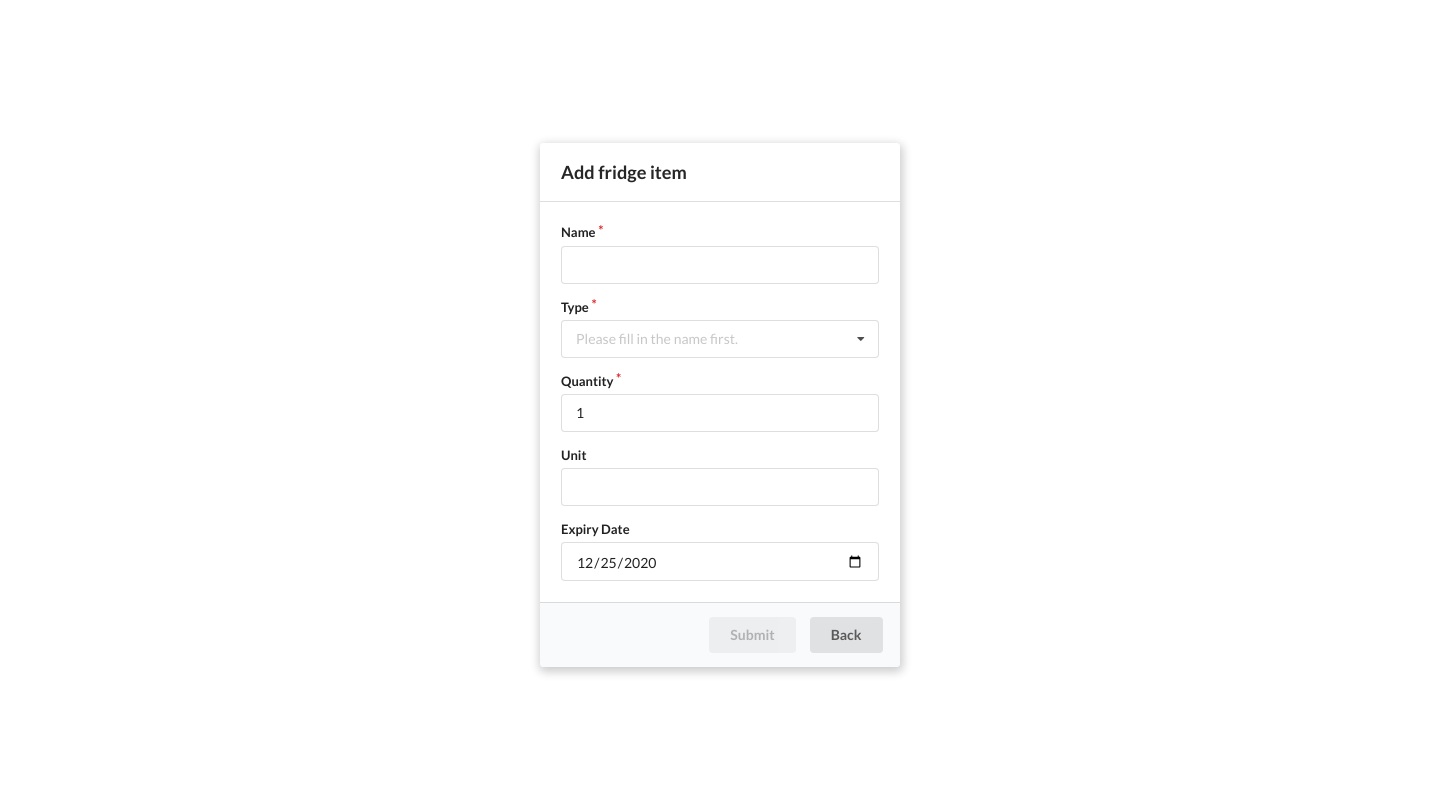
Test case: <FoodCreate /> › should set state properly on expiry date input
In the date field labelled "Expiry Date": (720,562) [561,542,879,581], type "TEST_EXPIRY"
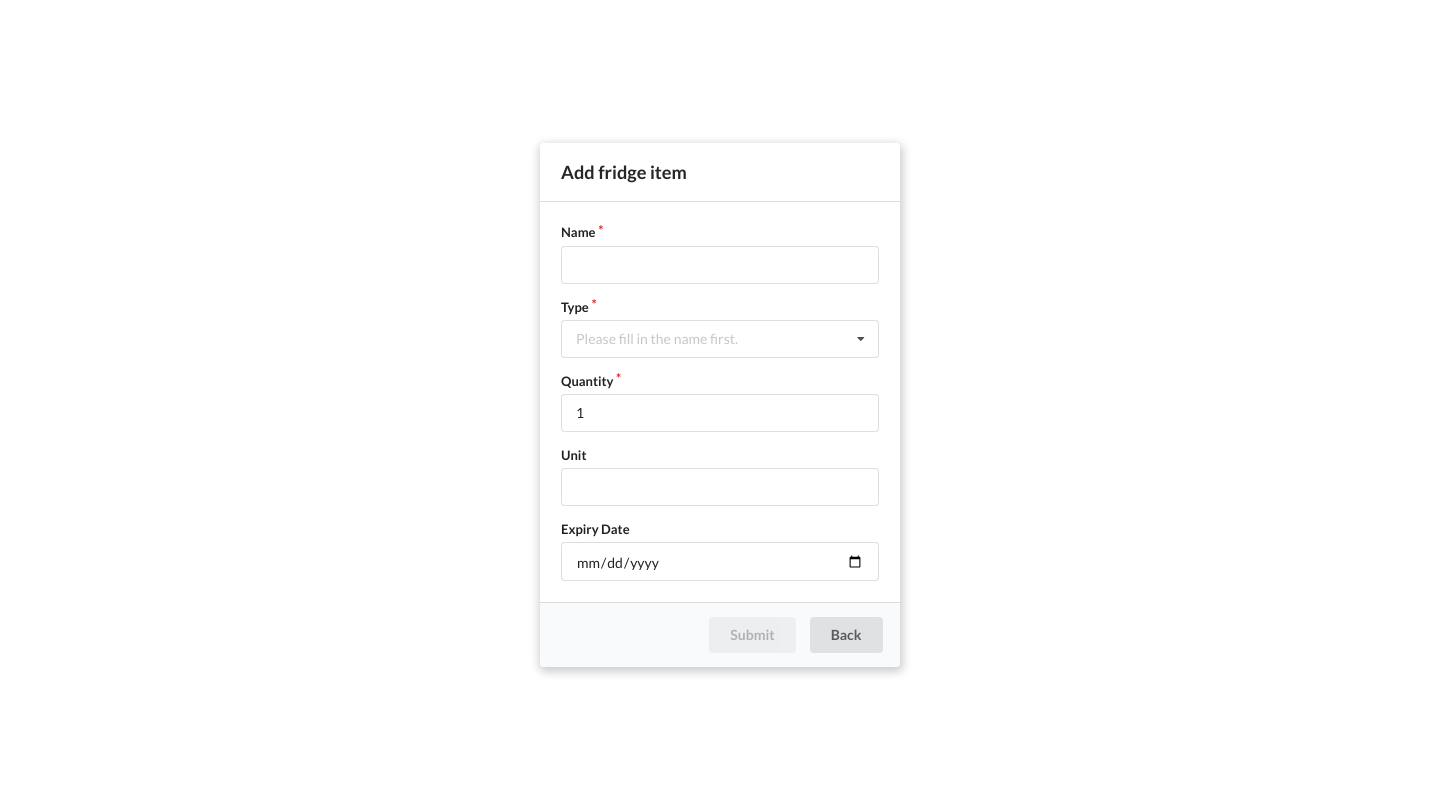
Now the date field labelled "Expiry Date" holds "TEST_EXPIRY", box [561,542,879,581]
